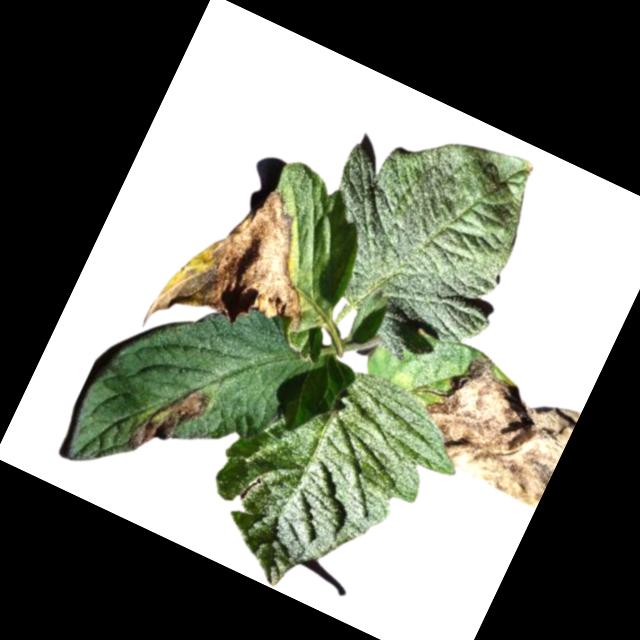Late_blight: (142, 161, 349, 386), (406, 341, 586, 512), (126, 373, 210, 469)
healthy: (180, 331, 478, 637), (277, 90, 558, 387)
